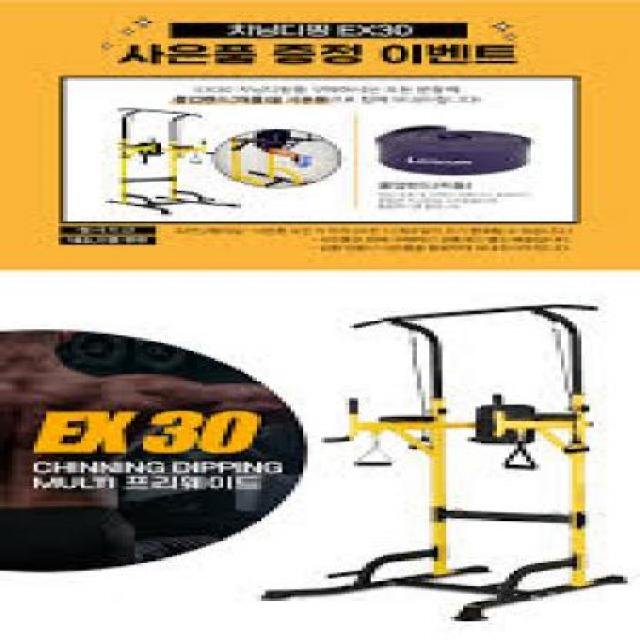chinning dipping: (311, 303, 629, 622)
